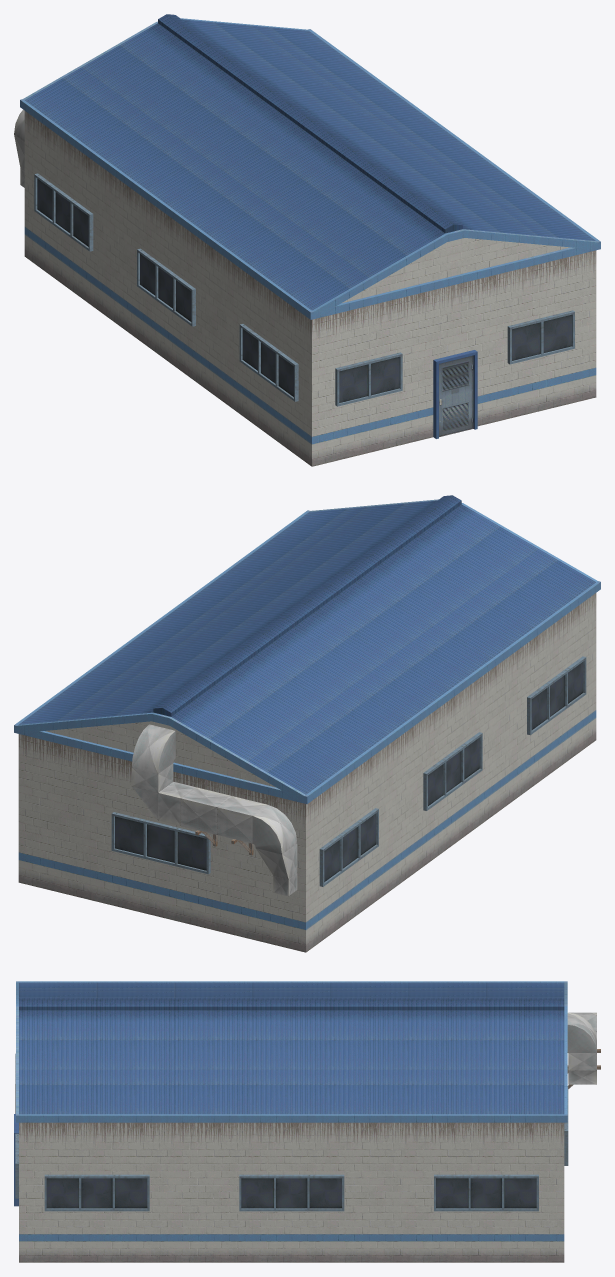
The model's file is workshop.glb.
3 views of the same model, one above another, from view 1: azimuth 30°, elevation 25°; view 2: azimuth 150°, elevation 25°; view 3: azimuth 270°, elevation 25° (orthographic). The views are drawn at different scales.
Parts seen in each view (by area): view 1: building02; view 2: building02; view 3: building02.
Boxes of the visible parts, <box> form: building02: <box>14,14,600,466</box>; building02: <box>14,495,600,952</box>; building02: <box>14,981,600,1262</box>.
Bounding box in the file's own units: 8.2 × 5.58 × 15.07.
Materials: 1 (1 with a texture image).
